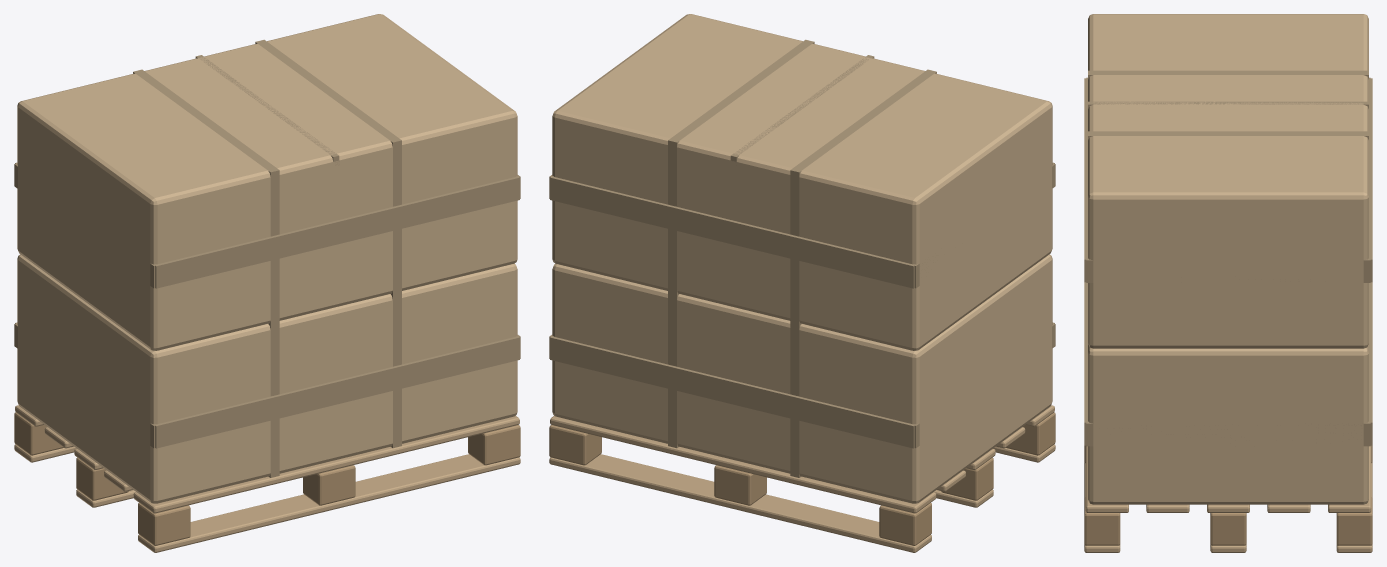
The model's file is pallet.glb.
3 renders of one model, left to right at view 1: azimuth 30°, elevation 25°; view 2: azimuth 150°, elevation 25°; view 3: azimuth 270°, elevation 25°, orthographic. The views are drawn at different scales.
Visible parts, largest first — view 1: Cube; view 2: Cube; view 3: Cube.
Boxes of the visible parts, <box> form: Cube: <box>14,14,520,552</box>; Cube: <box>549,14,1055,552</box>; Cube: <box>1084,14,1372,552</box>.
Size of the model in its own units: 1.2 by 1.1 by 0.8.
